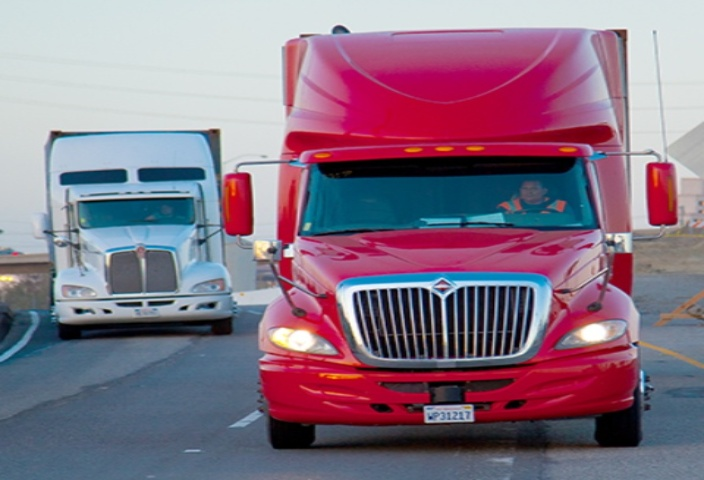truck: (256, 16, 677, 450), (39, 104, 223, 343)
